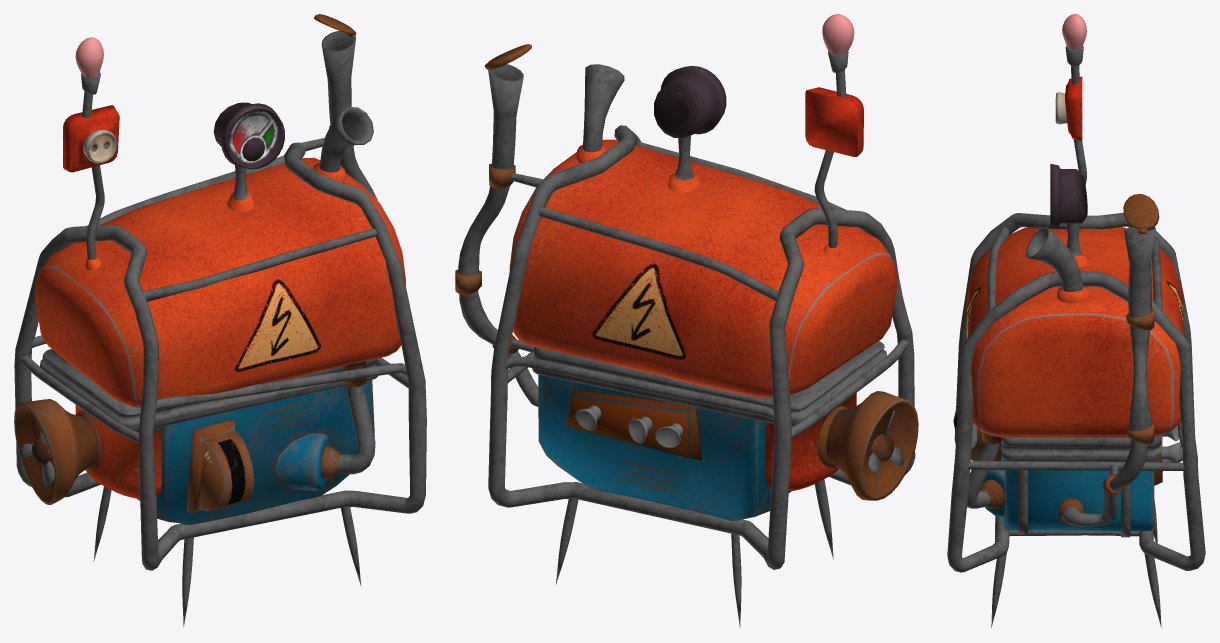
Rendered from generator.glb.
The picture shows the model from 3 angles, left to right: view 1: azimuth 30°, elevation 25°; view 2: azimuth 150°, elevation 25°; view 3: azimuth 270°, elevation 25°; orthographic projection. The views are drawn at different scales.
Parts seen in each view (by area): view 1: generator_1_main_0; view 2: generator_1_main_0; view 3: generator_1_main_0.
Part boxes in pixels (box(x1,y1,x2,y2)): generator_1_main_0: box(14, 14, 426, 627); generator_1_main_0: box(455, 14, 918, 627); generator_1_main_0: box(947, 14, 1205, 628).
Size of the model in its own units: 1.22 by 1.71 by 0.7783.
Materials: 2 (1 with a texture image).
